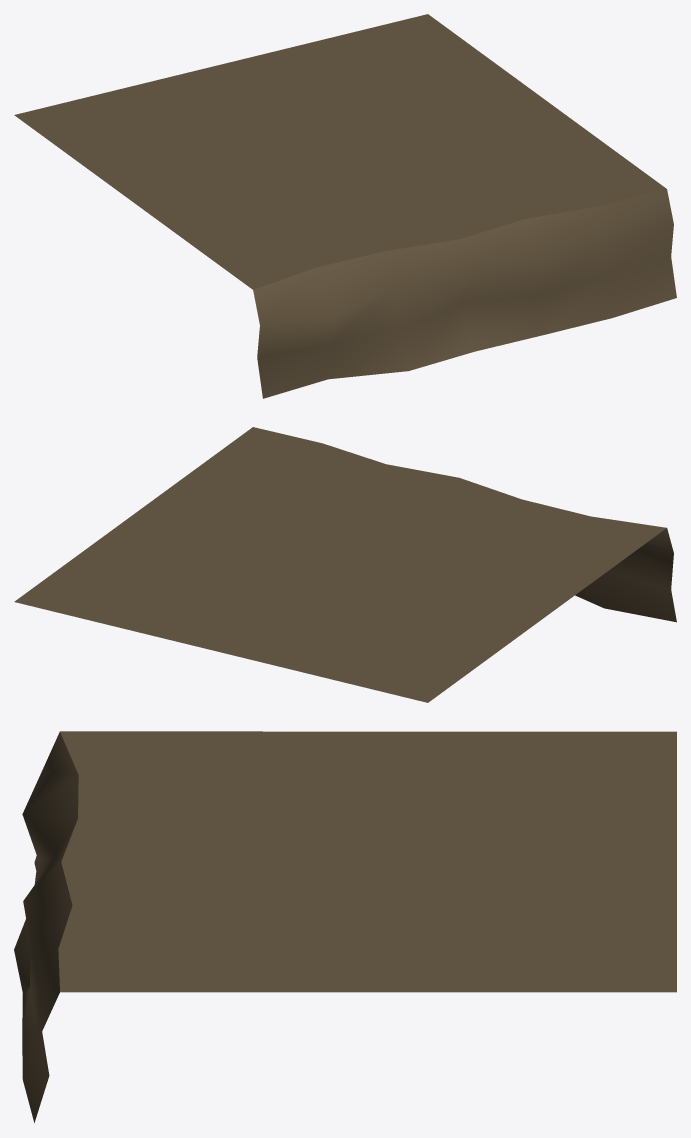
Rendered from floor_edge_2.fbx.
3 views of the same model, one above another, from view 1: azimuth 30°, elevation 25°; view 2: azimuth 150°, elevation 25°; view 3: azimuth 270°, elevation 25° (orthographic). The views are drawn at different scales.
Visible parts, largest first — view 1: cave_edge_2; view 2: cave_edge_2; view 3: cave_edge_2.
Part boxes in pixels (x1=…): cave_edge_2: x1=14, y1=14, x2=676, y2=398; cave_edge_2: x1=14, y1=427, x2=676, y2=702; cave_edge_2: x1=14, y1=731, x2=676, y2=1122.
Size of the model in its own units: 675 by 159 by 725.
